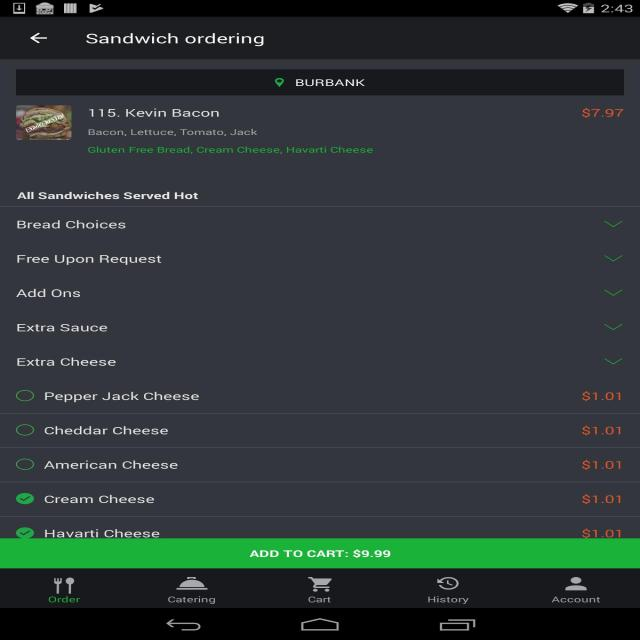button: (0, 537, 640, 567), (138, 572, 236, 609), (15, 571, 106, 610), (280, 569, 362, 608), (537, 570, 619, 607), (411, 569, 479, 608), (24, 28, 55, 52), (604, 283, 631, 303), (603, 319, 633, 337), (598, 250, 626, 266), (11, 491, 39, 507), (16, 422, 37, 441), (16, 387, 37, 404), (600, 353, 623, 368), (15, 457, 36, 473), (601, 216, 624, 229), (13, 526, 36, 538)
heading: (82, 31, 268, 51), (86, 105, 222, 121)
image: (12, 103, 73, 142)
label: (42, 390, 205, 403), (43, 458, 184, 473), (42, 528, 165, 540), (44, 493, 159, 505), (40, 427, 172, 437)
text: (81, 126, 378, 158), (13, 188, 202, 204), (15, 253, 165, 267), (13, 355, 122, 371), (15, 218, 129, 232), (15, 322, 113, 334), (291, 76, 374, 89), (13, 286, 87, 299), (579, 104, 626, 121), (580, 422, 624, 438), (578, 389, 628, 403), (577, 457, 626, 471), (577, 493, 625, 507), (577, 526, 624, 538)
